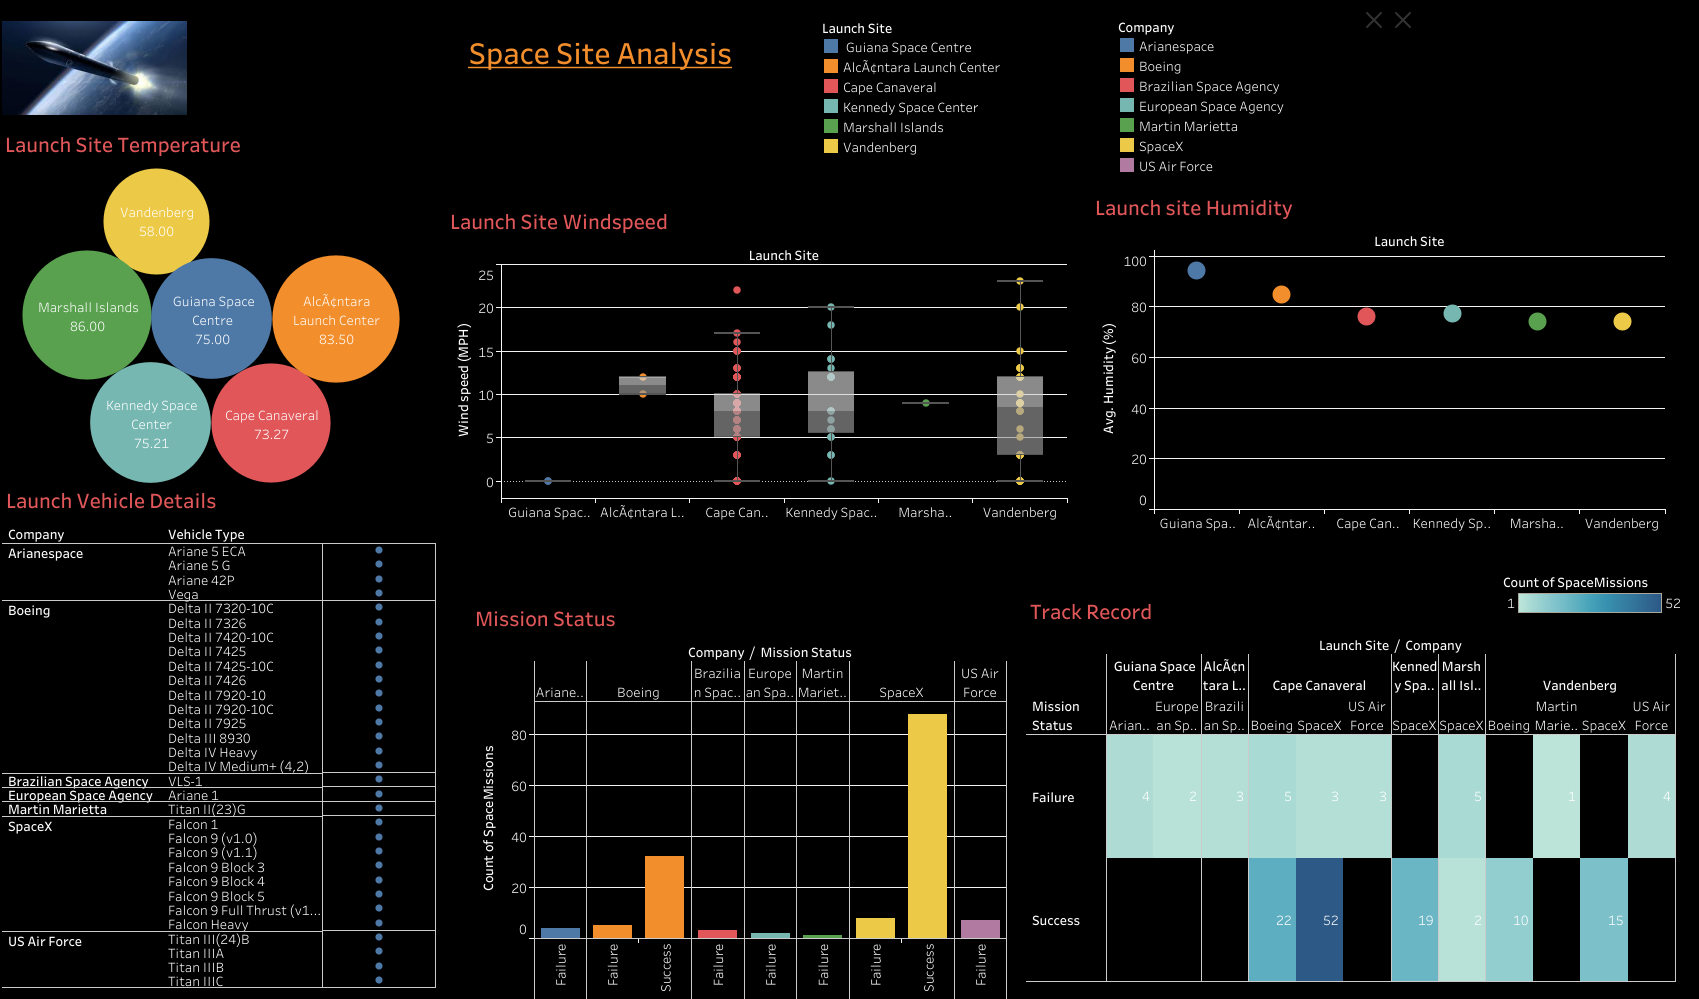

The dashboard page shown, as its layout file describes it:
{"tool":"tableau","page":{"name":"Dashboard 1","canvas":[1000,1000],"units":"permille","ordinal":0},"visuals":[{"type":"dashboard-object","box":[800,8,17.1,24]},{"type":"dashboard-object","box":[817.1,8,17.1,24]},{"type":"legend","title":"Mission Status","param":"[federated.1799p4h0f0ez2s13ieymp0qgt4j0].[none:Company:nk]","box":[657.1,15,132.9,172]},{"type":"legend","title":"Launch Site Temperature","param":"[federated.1799p4h0f0ez2s13ieymp0qgt4j0].[none:Launch Site:nk]","box":[482.9,16,150.7,176]},{"type":"image","param":"Image/ssa.jpg","box":[1.4,21,270.7,94]},{"type":"text","box":[238.6,32,229.3,40]},{"type":"worksheet","title":"Launch Site Temperature","mark":"Circle","box":[0.7,124,247.1,359]},{"type":"worksheet","title":"Launch site Humidity","mark":"Circle","rows":["Humidity (%)"],"cols":["Launch Site"],"box":[641.5,186.6,337.7,362.2]},{"type":"worksheet","title":"Launch Site Windspeed","mark":"Circle","rows":["Wind speed (MPH)"],"cols":["Launch Site"],"box":[262.3,201.1,365.4,337]},{"type":"worksheet","title":"Launch Vehicle Details","mark":"Circle","rows":["Company","Vehicle Type"],"box":[1.4,480,255,509]},{"type":"legend","title":"Track Record","param":"[federated.1799p4h0f0ez2s13ieymp0qgt4j0].[__tableau_internal_object_id__].[cnt:S","box":[883.9,568.5,107.7,88]},{"type":"worksheet","title":"Track Record","mark":"Square","rows":["Mission Status"],"cols":["Launch Site","Company"],"box":[603.6,591.3,382.1,390.2]},{"type":"worksheet","title":"Mission Status","mark":"Automatic","rows":["SpaceMissions_807C3FE2BE3D4B9E8E8F79CFCFF13B83"],"cols":["Company","Mission Status"],"box":[277.1,598,315,401]}]}

Visuals, with their boxes on the dashboard's canvas, which has no fixed pixel size, in thousandths of its width and height (x1, y1, x2, y2). These are canvas units, not pixel positions in the 1699x999 screenshot, which may show the page scaled, cropped or inside an application window:
dashboard-object: {"left": 800, "top": 8, "right": 817, "bottom": 32}
dashboard-object: {"left": 817, "top": 8, "right": 834, "bottom": 32}
"Mission Status" legend: {"left": 657, "top": 15, "right": 790, "bottom": 187}
"Launch Site Temperature" legend: {"left": 483, "top": 16, "right": 634, "bottom": 192}
image: {"left": 1, "top": 21, "right": 272, "bottom": 115}
text: {"left": 239, "top": 32, "right": 468, "bottom": 72}
"Launch Site Temperature" worksheet (Circle marks): {"left": 1, "top": 124, "right": 248, "bottom": 483}
"Launch site Humidity" worksheet (Circle marks): {"left": 642, "top": 187, "right": 979, "bottom": 549}
"Launch Site Windspeed" worksheet (Circle marks): {"left": 262, "top": 201, "right": 628, "bottom": 538}
"Launch Vehicle Details" worksheet (Circle marks): {"left": 1, "top": 480, "right": 256, "bottom": 989}
"Track Record" legend: {"left": 884, "top": 568, "right": 992, "bottom": 656}
"Track Record" worksheet (Square marks): {"left": 604, "top": 591, "right": 986, "bottom": 982}
"Mission Status" worksheet: {"left": 277, "top": 598, "right": 592, "bottom": 999}
